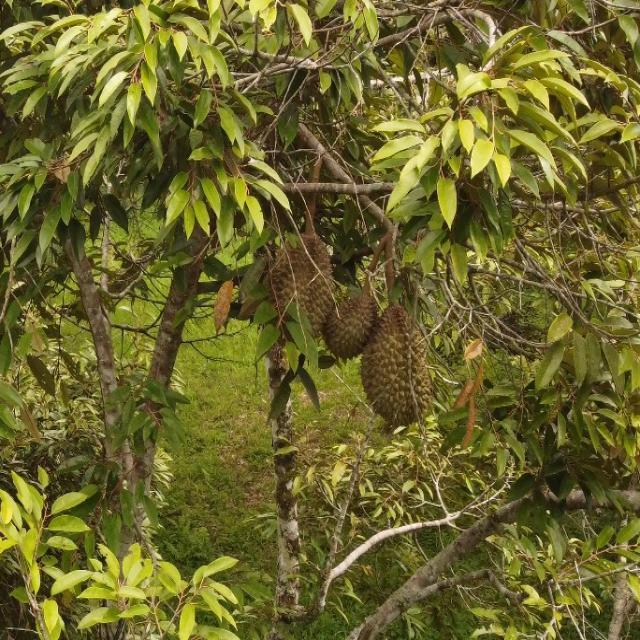mature: (358, 302, 432, 427), (269, 230, 327, 345), (325, 290, 375, 360)
